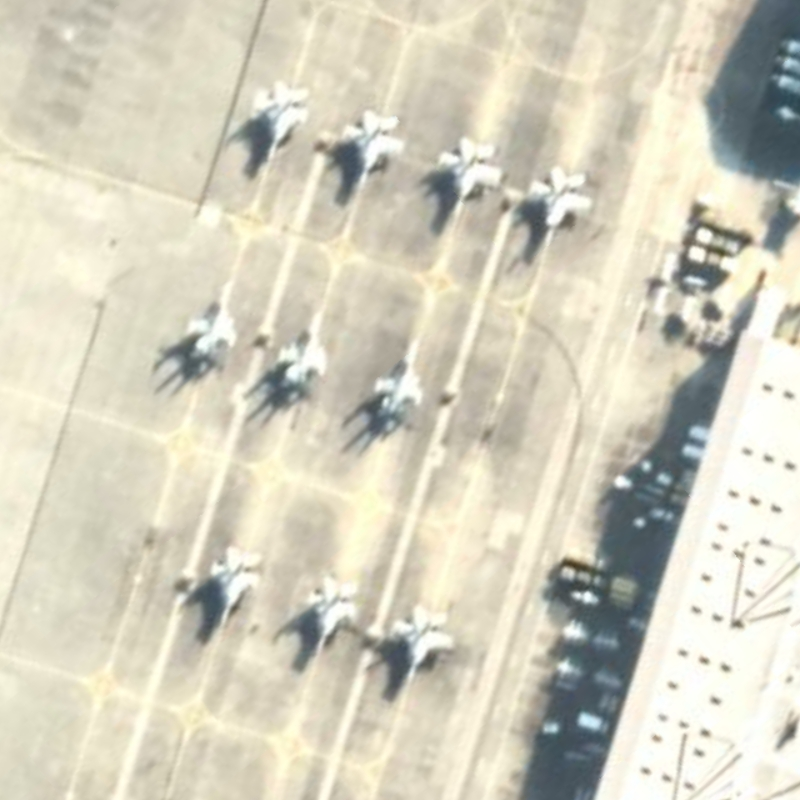A16: (232, 72, 315, 189), (520, 159, 596, 269), (430, 128, 504, 240), (334, 102, 407, 210), (384, 599, 462, 700), (293, 561, 361, 674), (171, 274, 249, 371), (201, 535, 267, 637), (364, 334, 428, 428), (273, 302, 335, 399)
